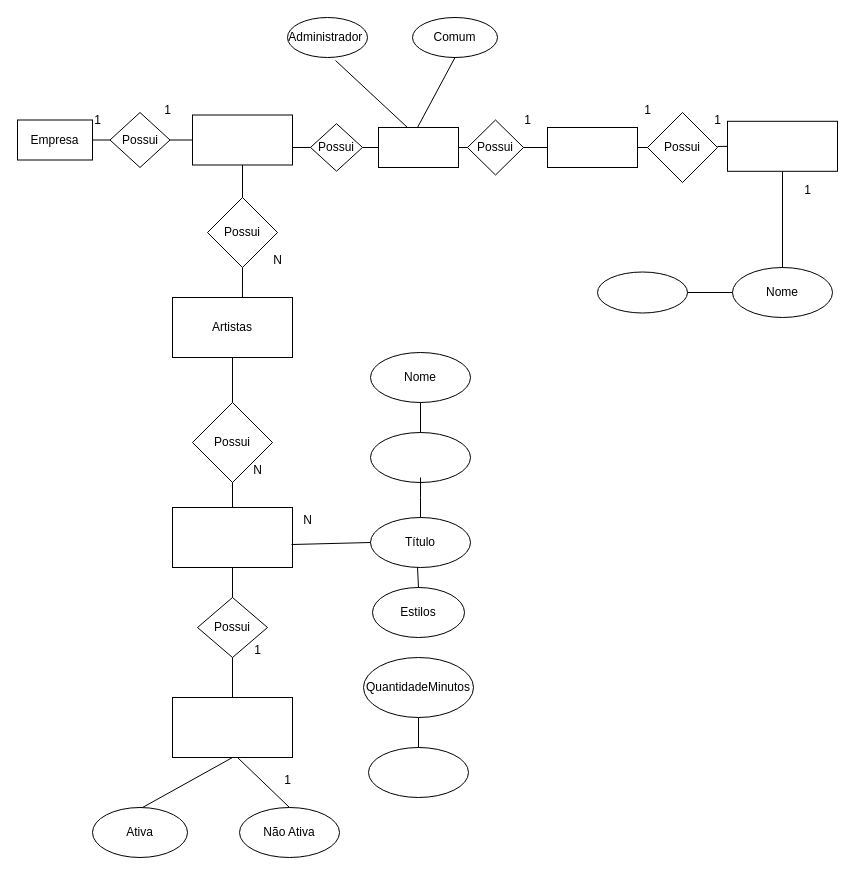
The diagram is 855 pixels wide and 875 high, and some of its shapes have lost their labels. The centre of each missing label's shape, as x and y in pixels:
DataLançamento: (x=418, y=772)
Email: (x=642, y=292)
localização: (x=420, y=457)
Plataforma: (x=242, y=139)
Senha: (x=592, y=147)
TipoPermissão: (x=418, y=147)
Usuário: (x=782, y=145)
Visualização: (x=232, y=727)
Álbuns: (x=232, y=537)
